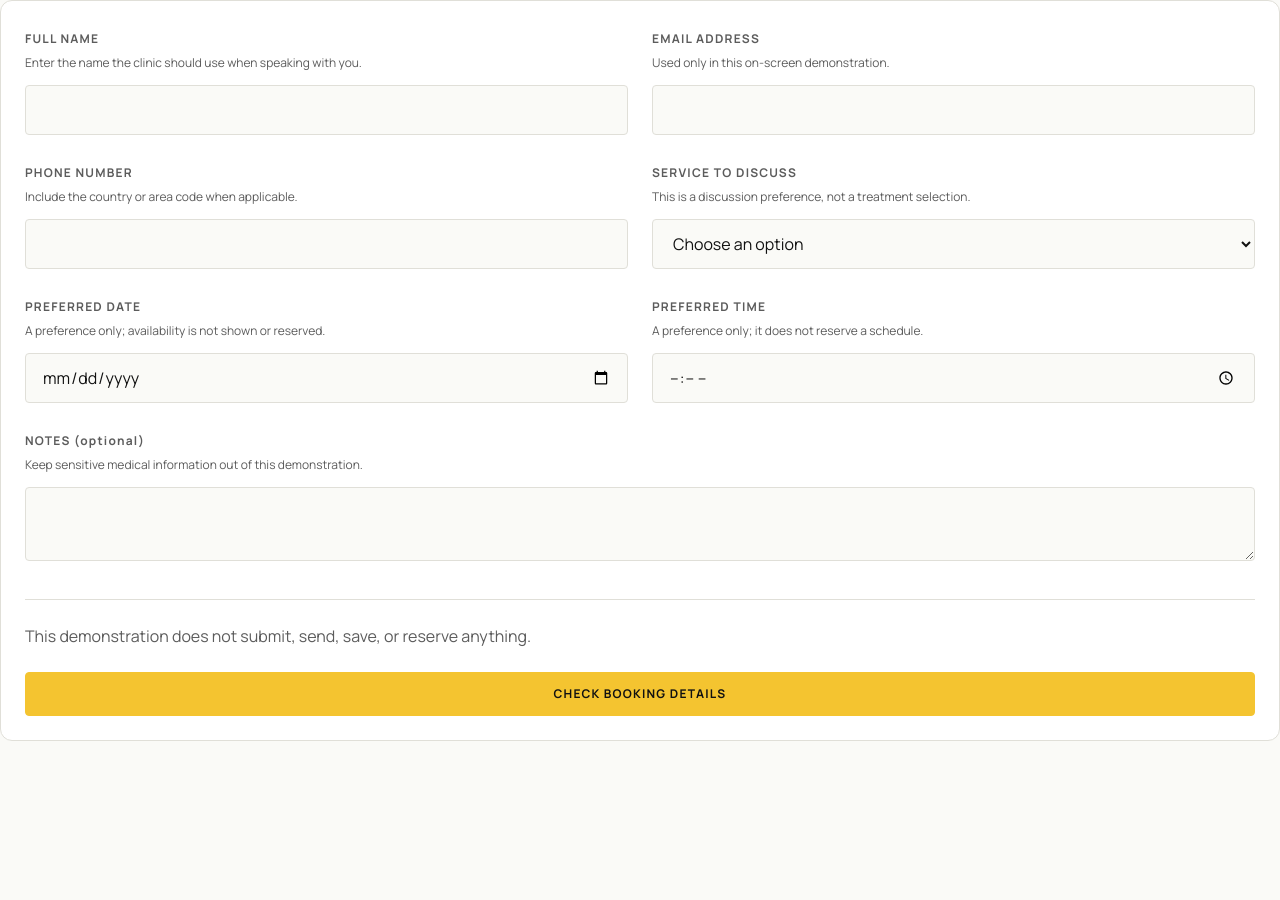
Test case: BookingForm › shows the coming-soon result without claiming an appointment exists
This screenshot has width=1280, height=900.
Step 1. Type "Test Visitor" into the field labelled "Full name" → (326, 110), box left=25, top=85, right=628, bottom=135
Step 2. Type "visitor@example.com" into the field labelled "Email address" → (954, 110), box left=652, top=85, right=1255, bottom=135
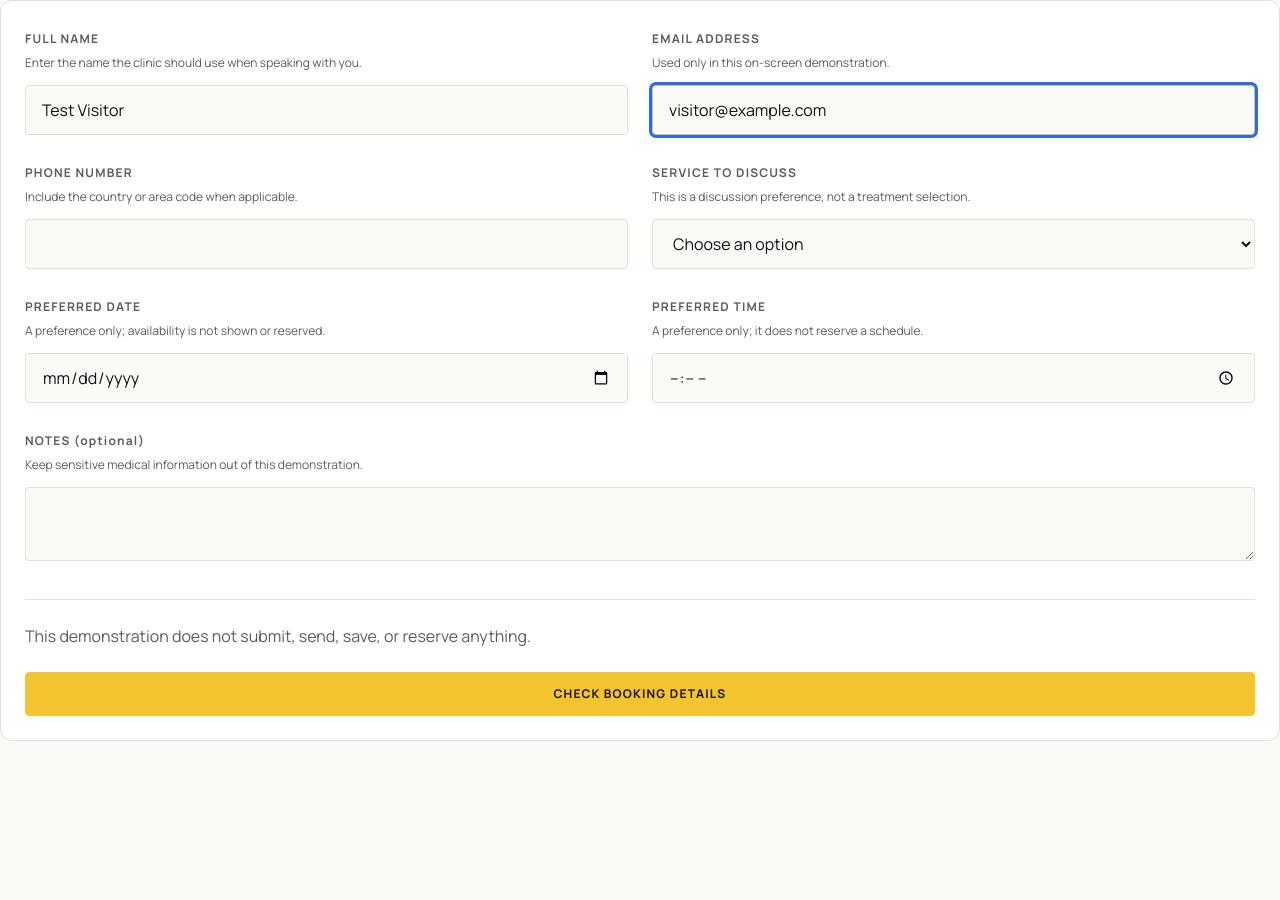
Step 3. Type "+63 912 345 6789" into the field labelled "Phone number" → (326, 244), box left=25, top=219, right=628, bottom=269
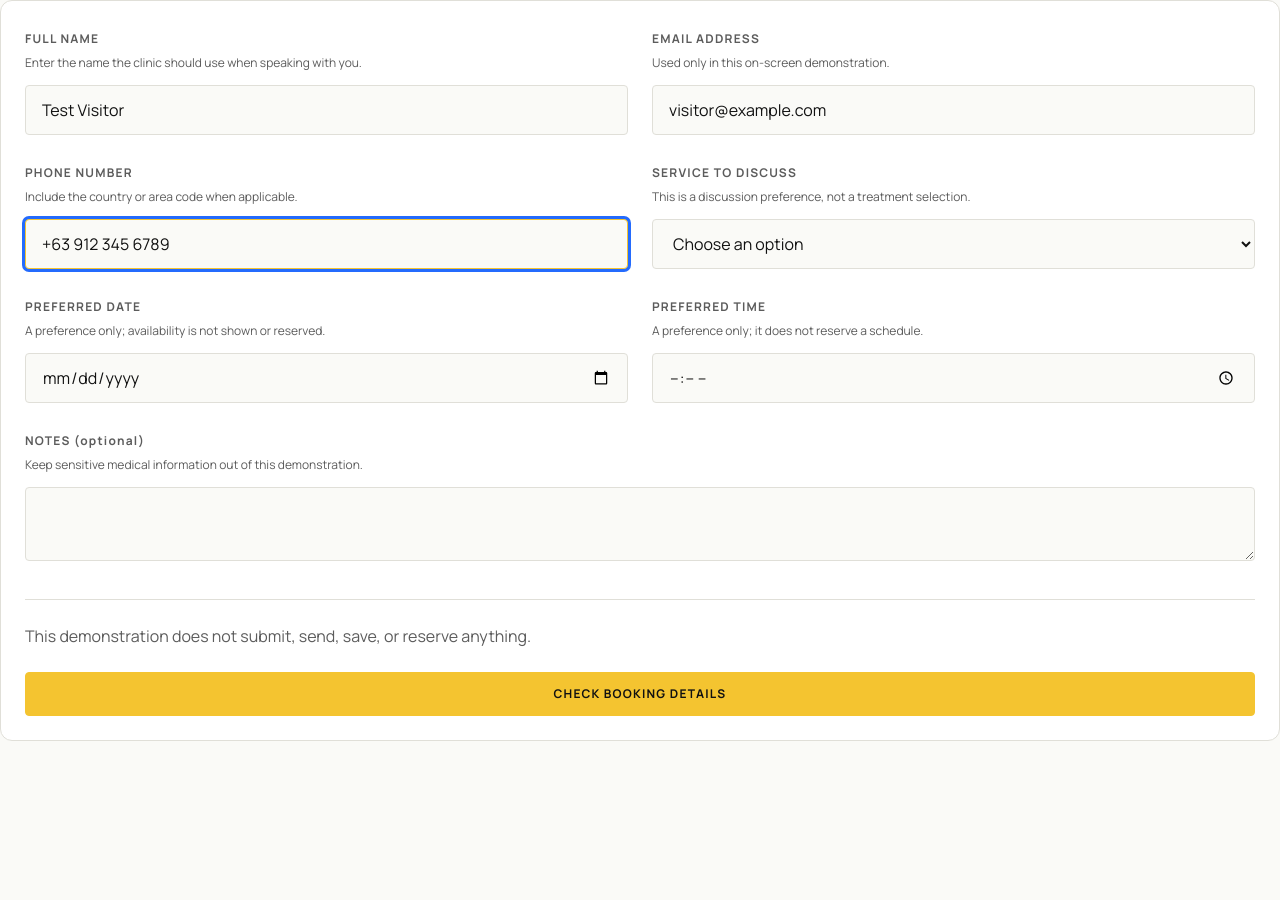
Step 4. Select "Zirconia veneers" in the dropdown labelled "Service to discuss" → (954, 244), box left=652, top=219, right=1255, bottom=269
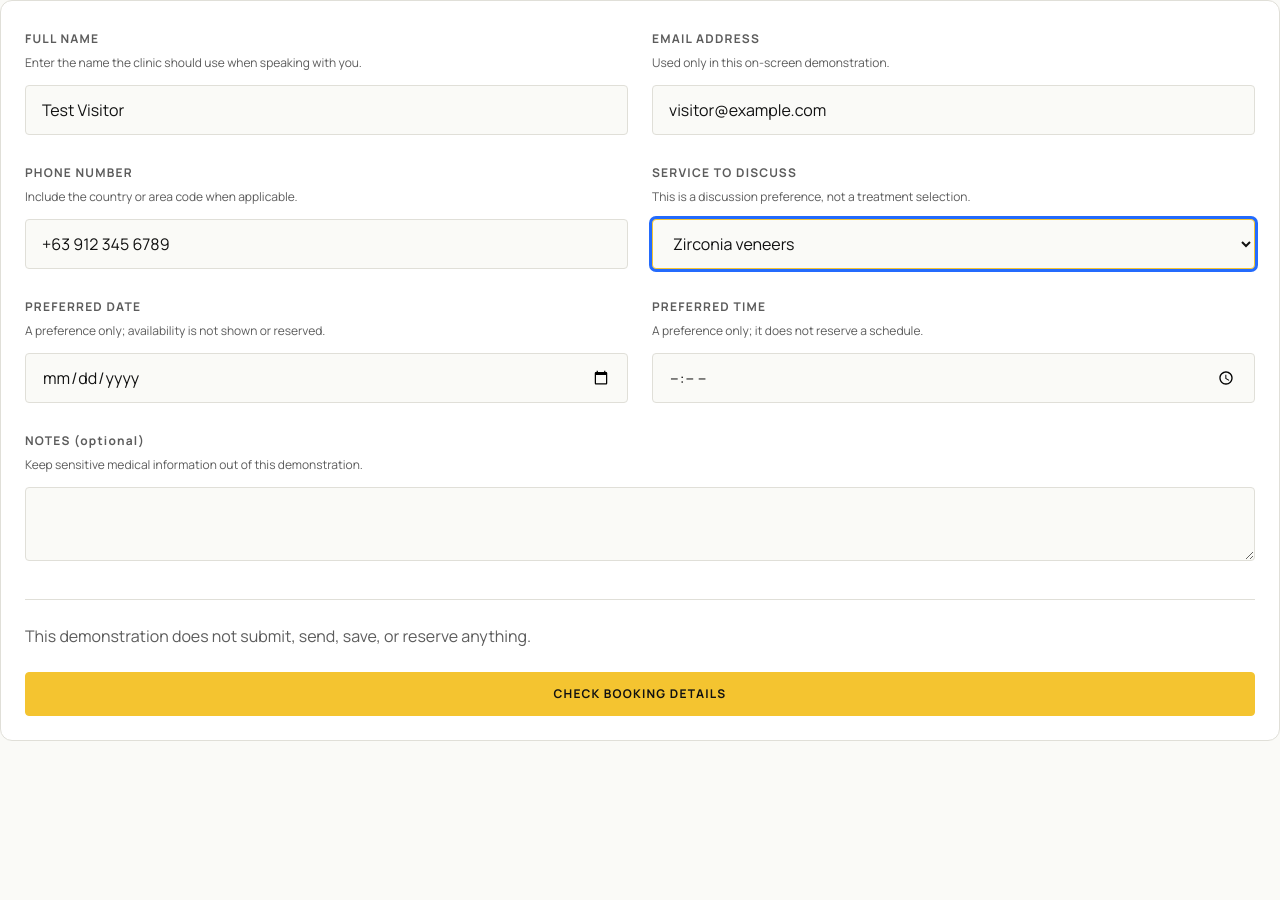
Step 5. Type "2030-05-20" into the date field labelled "Preferred date" → (326, 378), box left=25, top=353, right=628, bottom=403
Step 6. Type "10:30" into the time field labelled "Preferred time" → (954, 378), box left=652, top=353, right=1255, bottom=403
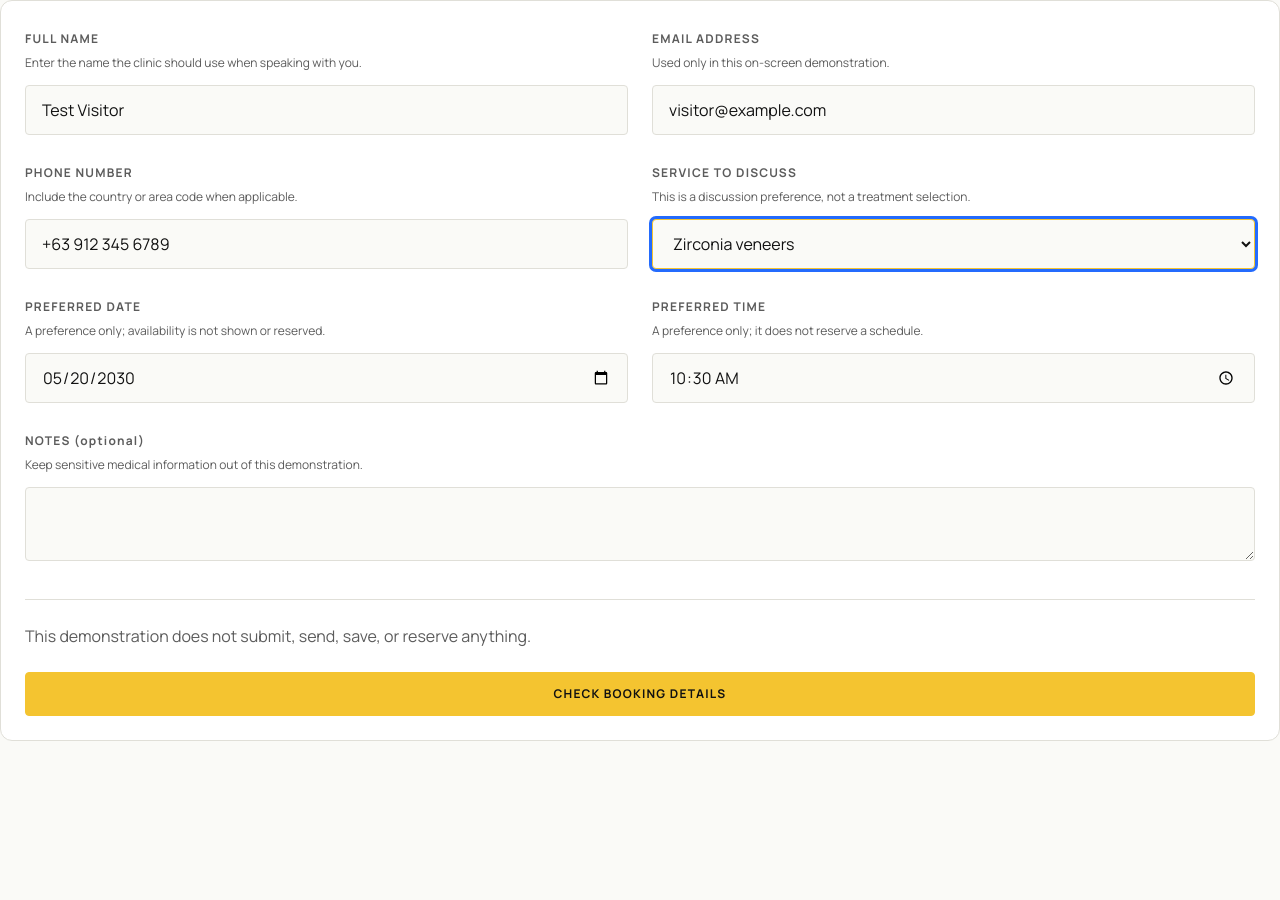
Step 7. Type "Test-only note." into the text box labelled "Notes (optional)" → (640, 524), box left=25, top=487, right=1255, bottom=561
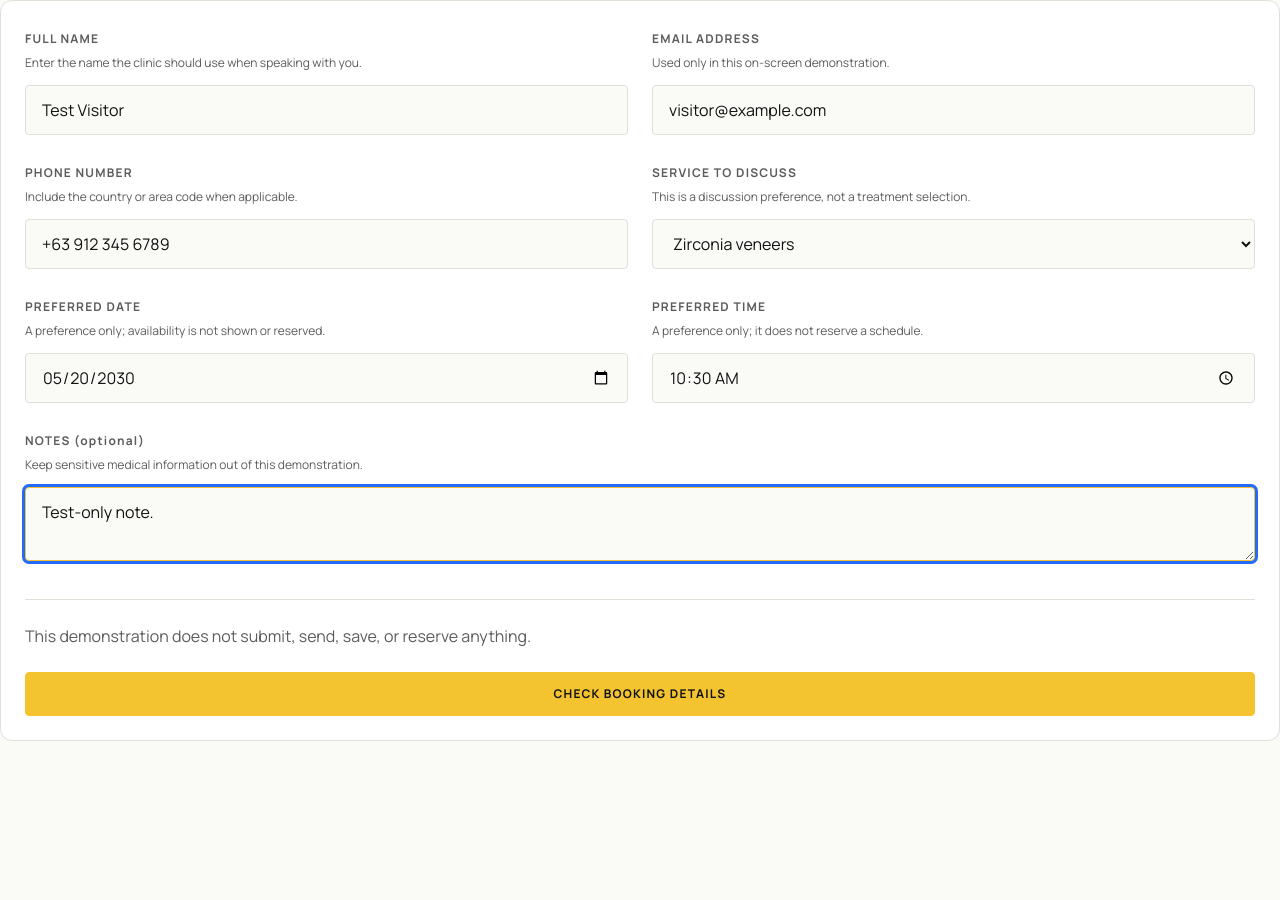
Step 8. Click the button "Check booking details" → click(640, 694), box left=25, top=672, right=1255, bottom=716
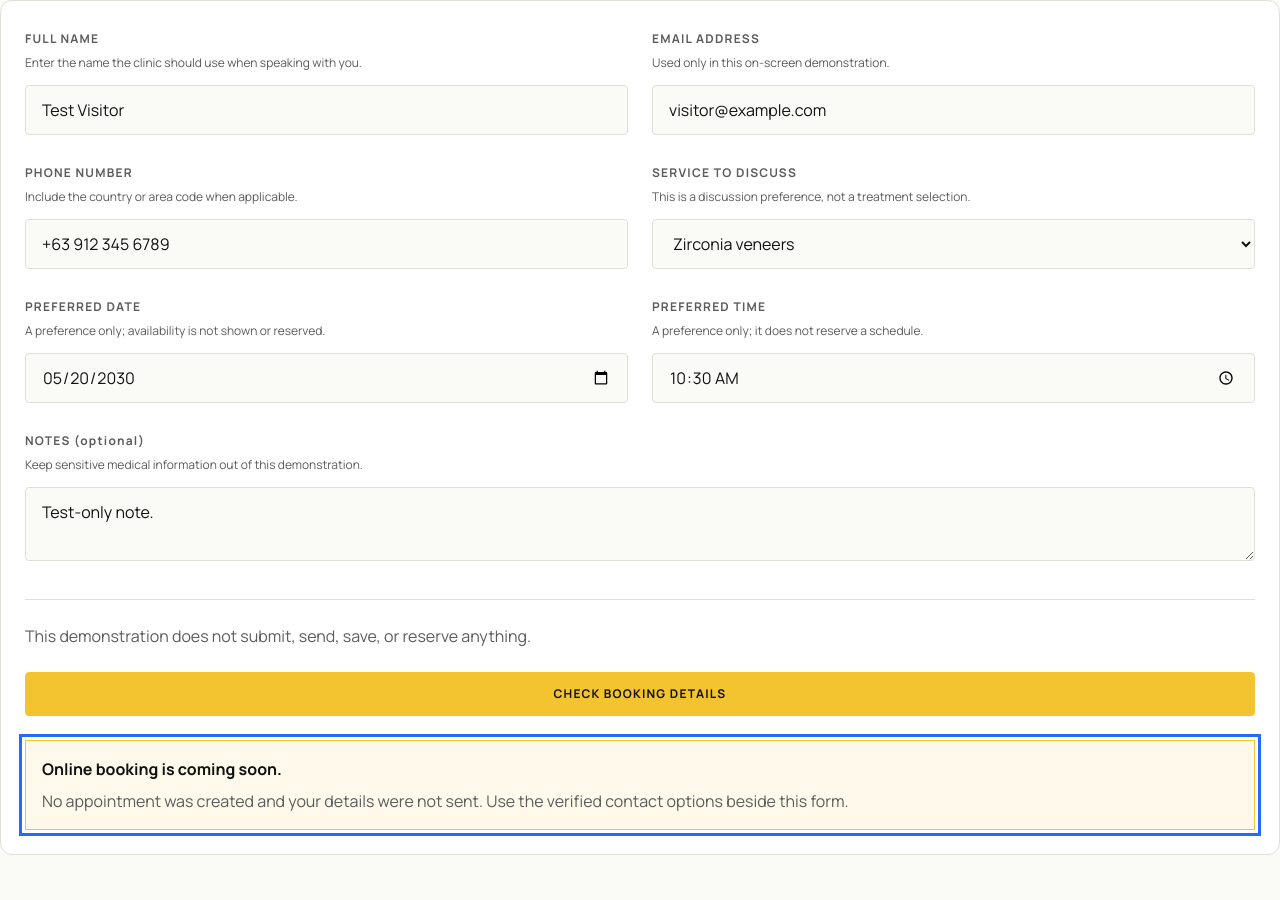
Now the message shows "Online booking is coming soon.", box left=42, top=758, right=282, bottom=780
Now the message shows "No appointment was created", box left=42, top=790, right=849, bottom=812
Now the message shows "your details were not sent", box left=42, top=790, right=849, bottom=812
